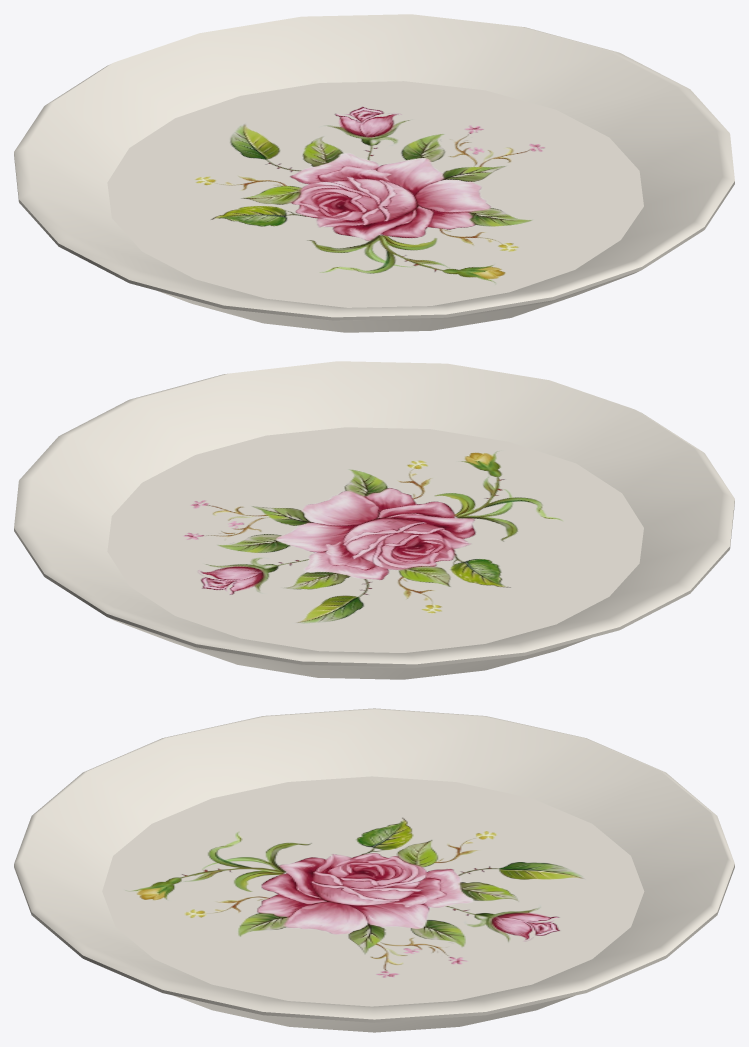
The model's file is Plate.obj.
3 views of the same model, one above another, from view 1: azimuth 30°, elevation 25°; view 2: azimuth 150°, elevation 25°; view 3: azimuth 270°, elevation 25° (orthographic).
Parts seen in each view (by area): view 1: pCylinder1; view 2: pCylinder1; view 3: pCylinder1.
Part boxes in pixels (box(x1,y1,x2,y2)): pCylinder1: box(14, 14, 734, 332); pCylinder1: box(14, 361, 734, 679); pCylinder1: box(14, 708, 734, 1032).
Size of the model in its own units: 2.08 by 0.1779 by 2.04.
